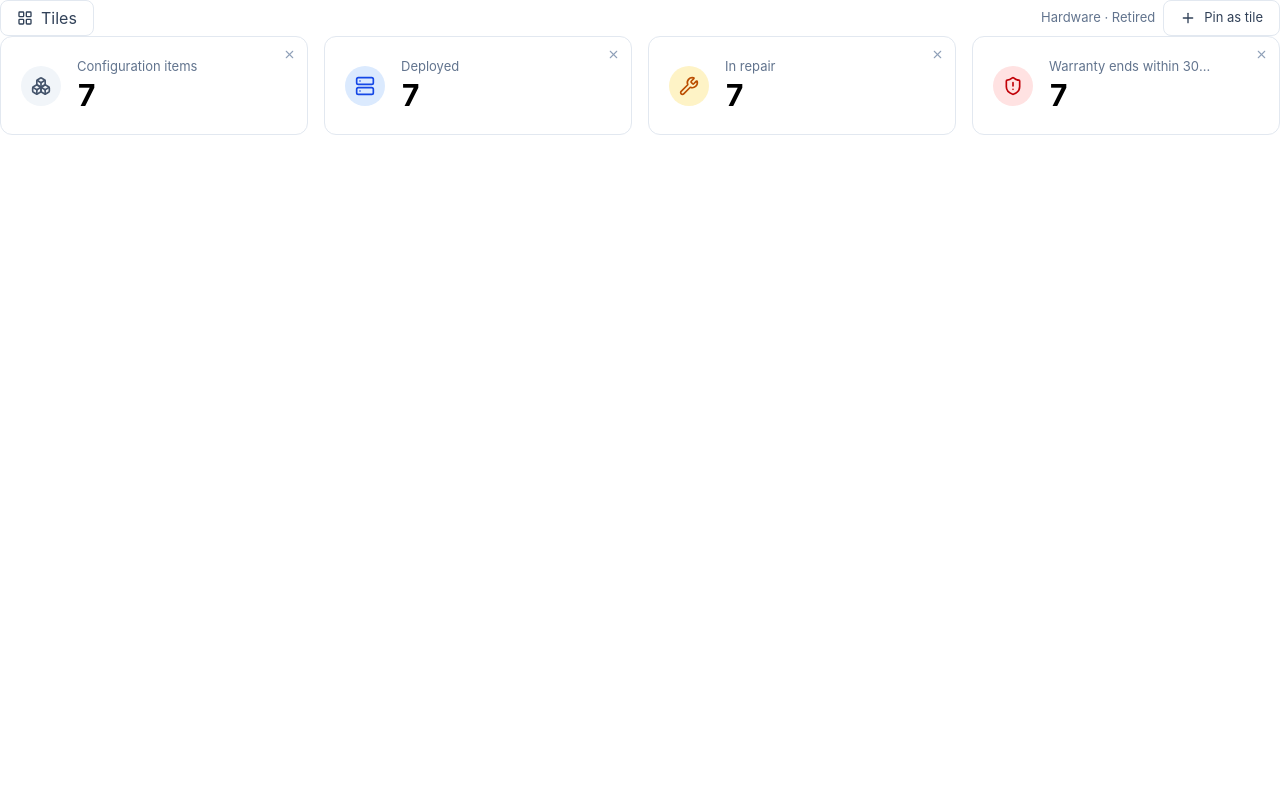
Test case: pinning a tile › suggests a name describing the filter
Expected: the text "Configuration items" is shown, [77,58,197,74]
Click the button "Pin as tile" at [1222, 18], box [1163,0,1279,36]
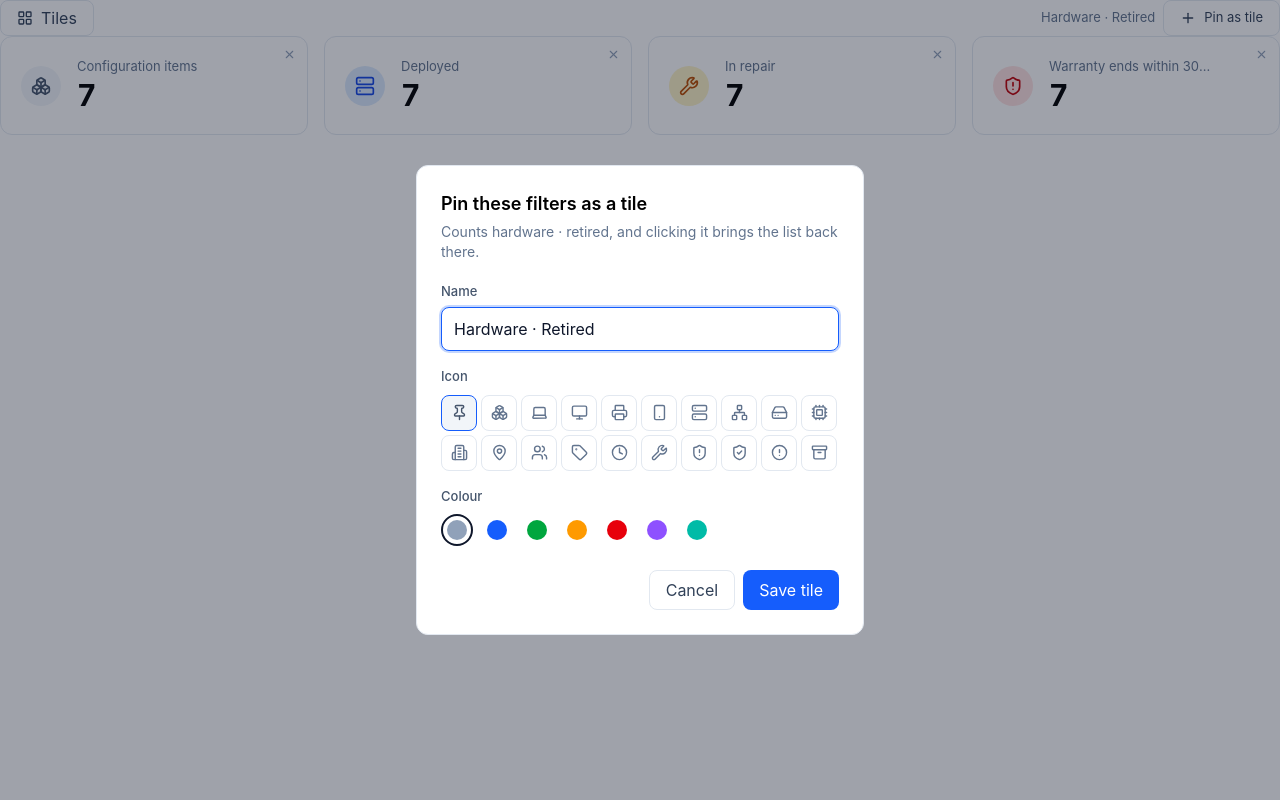
Expected: the field labelled "Name" holds "Hardware · Retired", [441,307,839,351]
